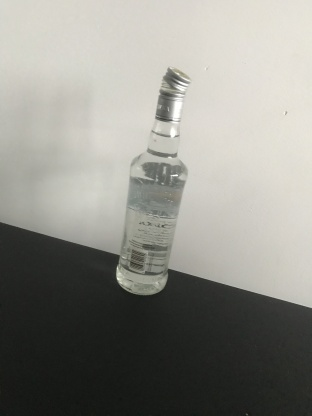nakretka: (154, 65, 191, 124)
